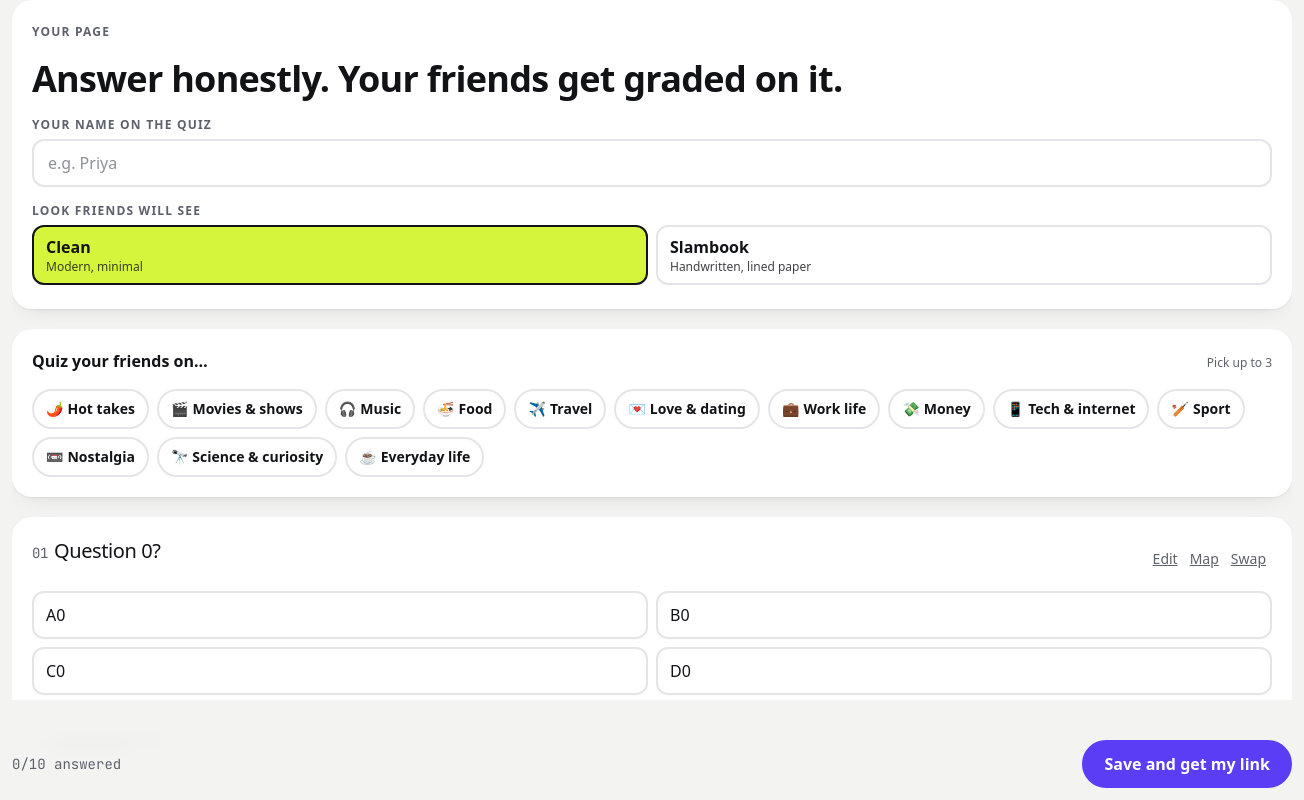
QuizBuilder › asks for a name
The image size is (1304, 800).
Step 1. Click the button "Save and get my link" → click(1187, 764), box [1082,740,1292,788]
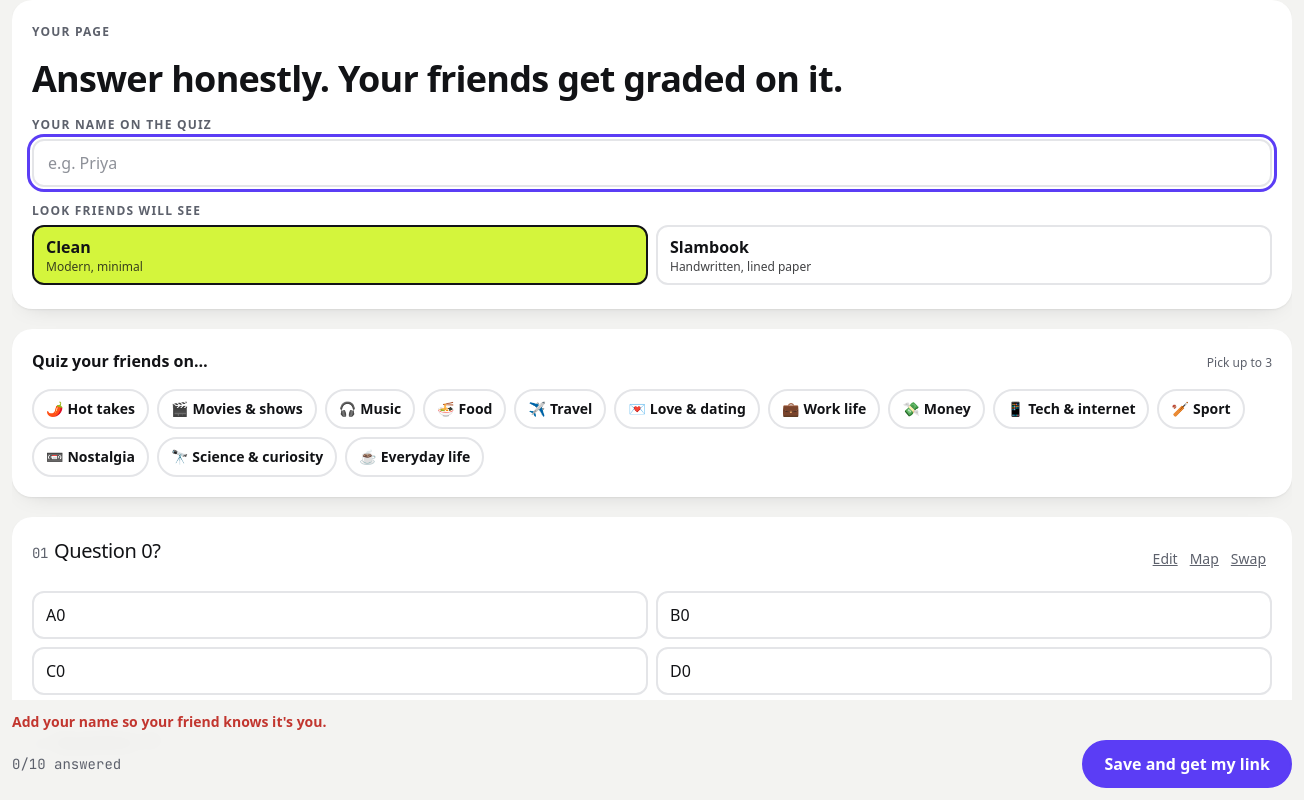
Now the text "Add your name so your friend knows it's you." is shown, box [12,712,326,731]
